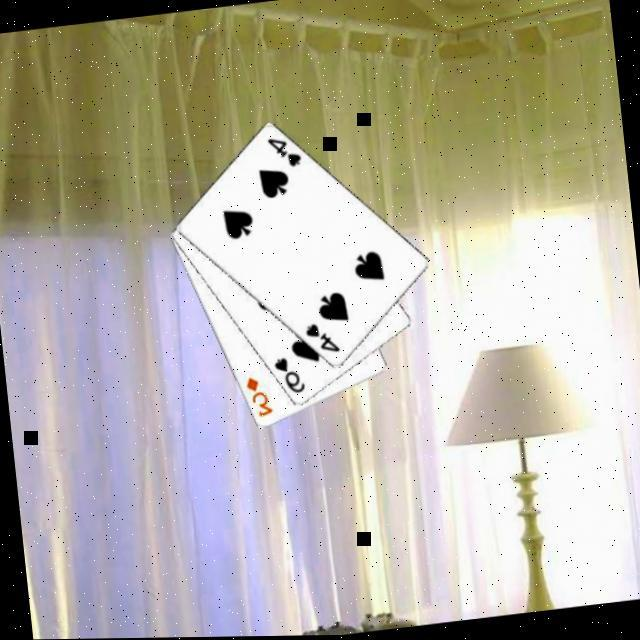3D: (242, 370, 277, 420)
4S: (302, 316, 344, 358), (264, 130, 306, 172)
6S: (270, 352, 308, 396)
